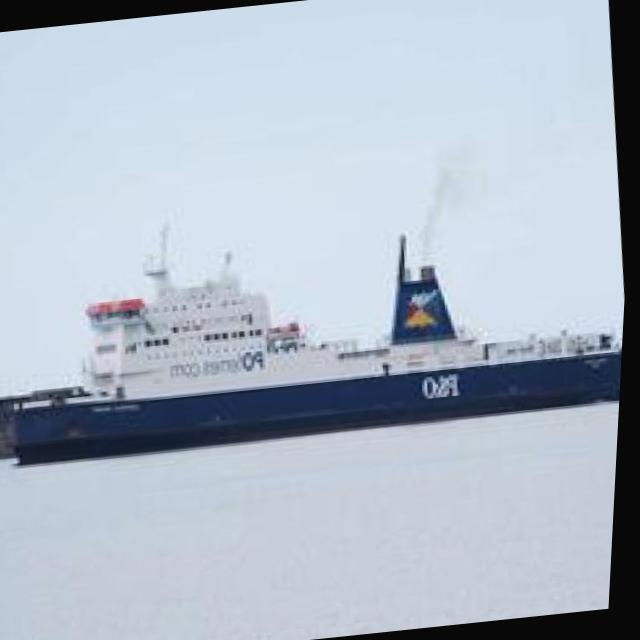ship2: (18, 207, 626, 467)
